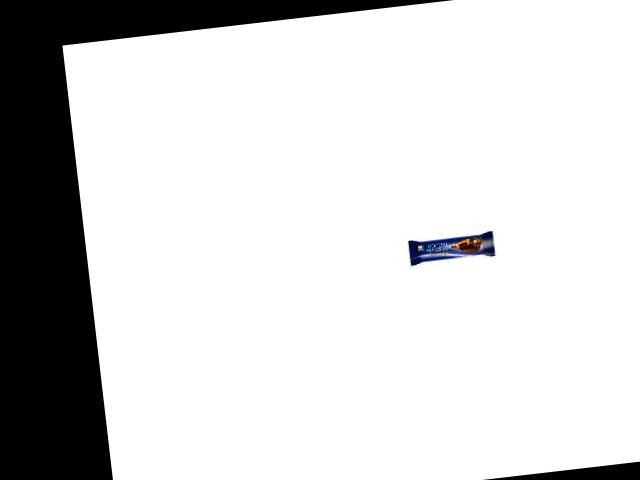chocolate: (405, 221, 506, 267)
